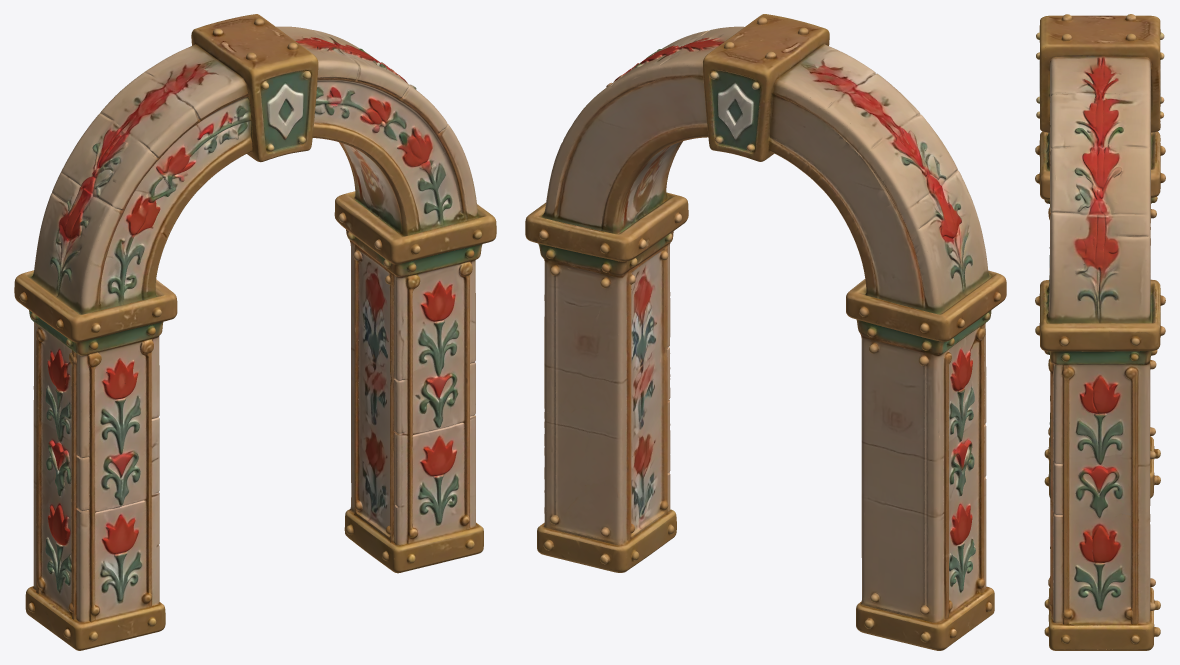
The model's file is act3_bell_arch.glb.
3 views of the same model, side by side, from view 1: azimuth 30°, elevation 25°; view 2: azimuth 150°, elevation 25°; view 3: azimuth 270°, elevation 25° (orthographic). The views are drawn at different scales.
Visible parts, largest first — view 1: model; view 2: model; view 3: model.
Boxes of the visible parts, x1,y1,x2,y2 form: model: (14,14,496,650); model: (525,14,1006,650); model: (1035,14,1165,650).
Size of the model in its own units: 0.827 by 1 by 0.2232.
1 material, 1 textured.
